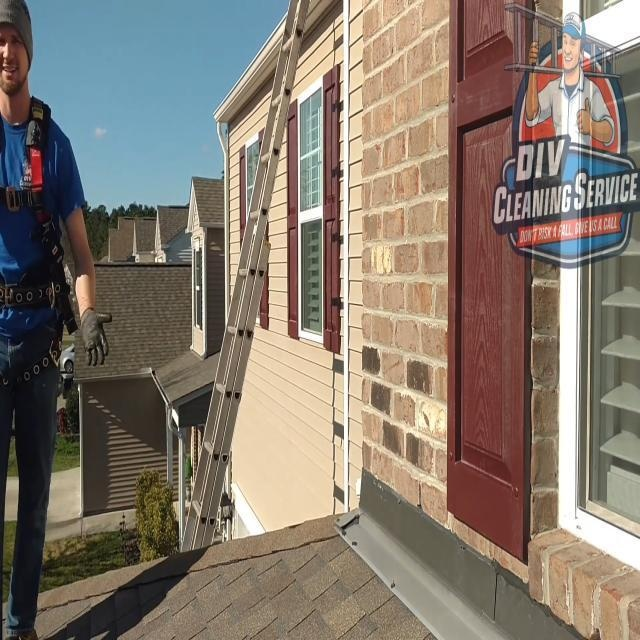Arnes_seguridad: (0, 88, 78, 394)
